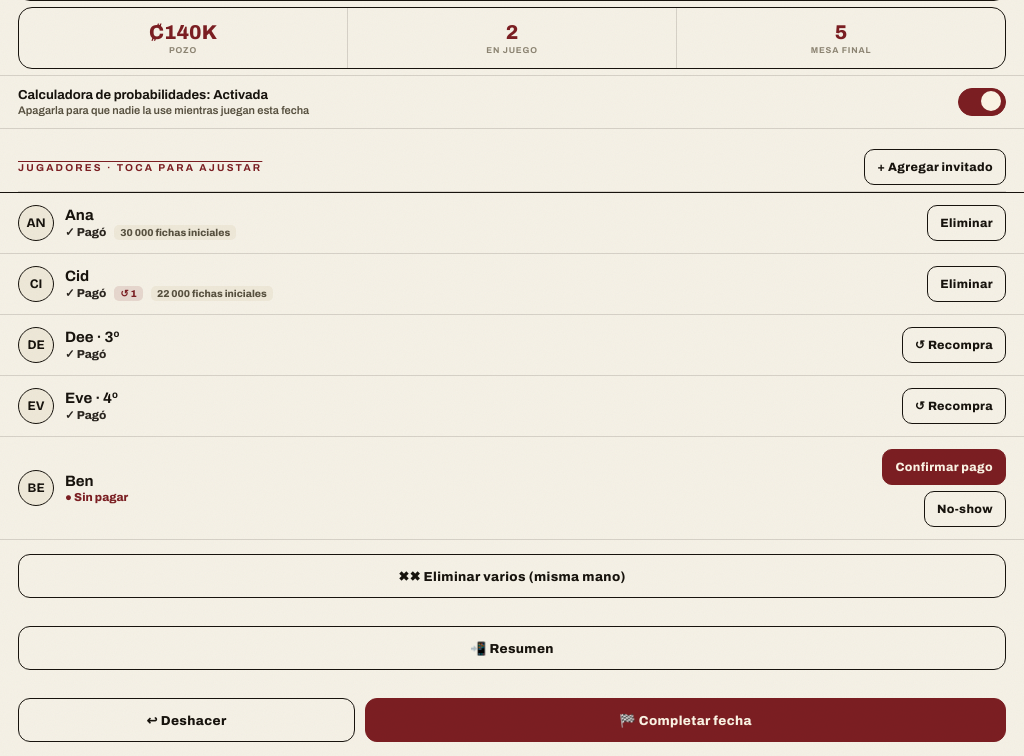
Admin console — error / reconnect states (slice 16) › surfaces a toast when an action RPC fails, and refetches to reconcile (safe retry)
(page scrolled)
Click the button "Confirmar pago" at (944,467), box [882,449,1006,485]
(page scrolled)
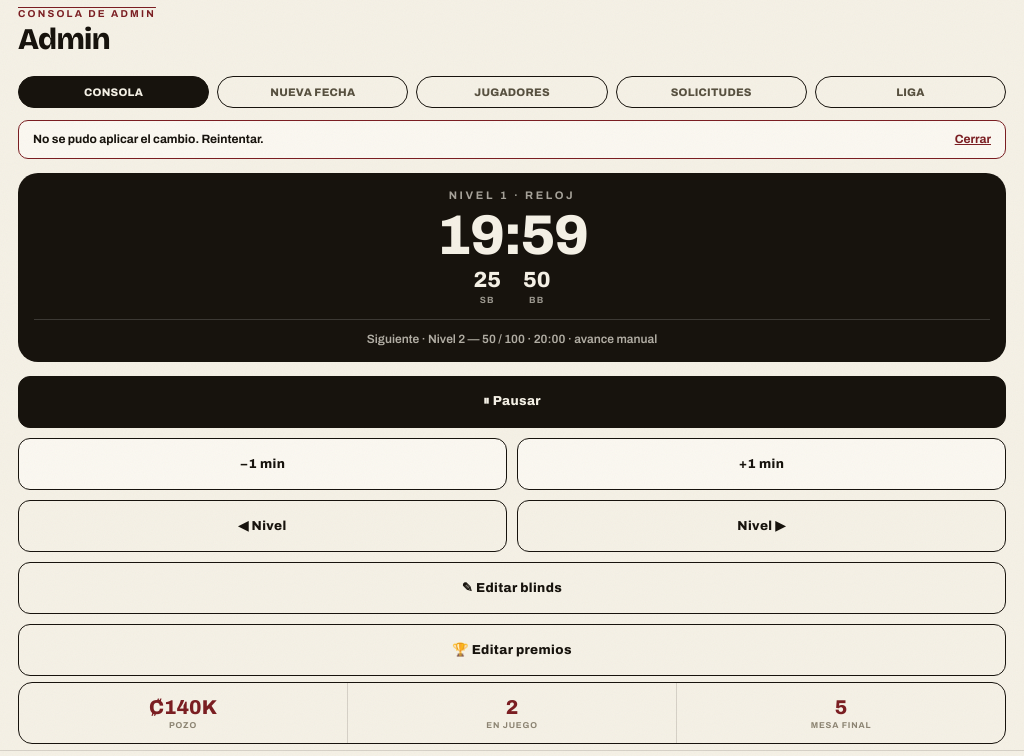
Now the message "No se pudo aplicar el cambio. Reintentar. Cerrar" is shown, box [18,120,1006,159]
